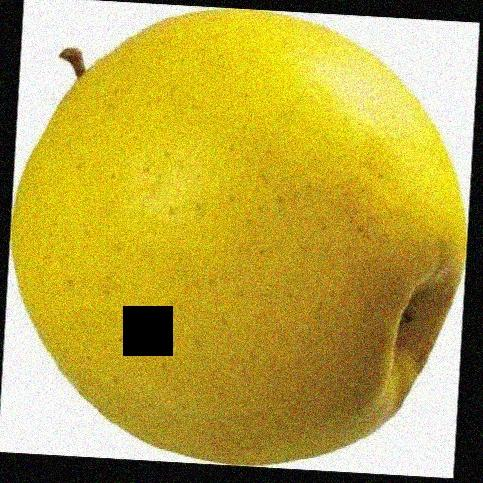green apple: (18, 12, 466, 466)
